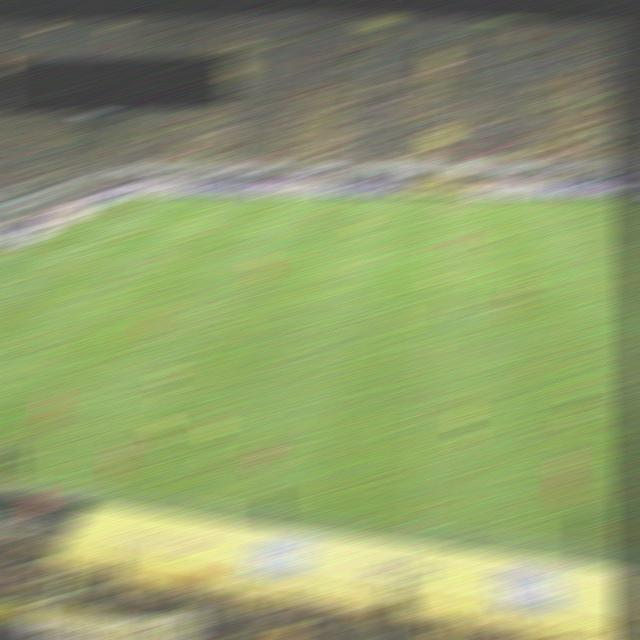bigarea_bottom_inner: (0, 349, 7, 356)
bigarea_top_inner: (172, 216, 198, 225)
bigarea_top_outter: (72, 215, 96, 225)
bottom_arc_area_intersection: (69, 289, 94, 297)
corner: (116, 194, 140, 203)
halfcircle_bottom: (418, 310, 446, 322)
halfcircle_top: (422, 244, 449, 255)
midline_bottom_intersection: (403, 521, 433, 534)
midline_top_intersection: (426, 194, 452, 202)
smallarea_top_inner: (63, 238, 88, 247)
smallarea_top_outter: (28, 238, 53, 246)
top_arc_area_intersection: (132, 243, 157, 252)
